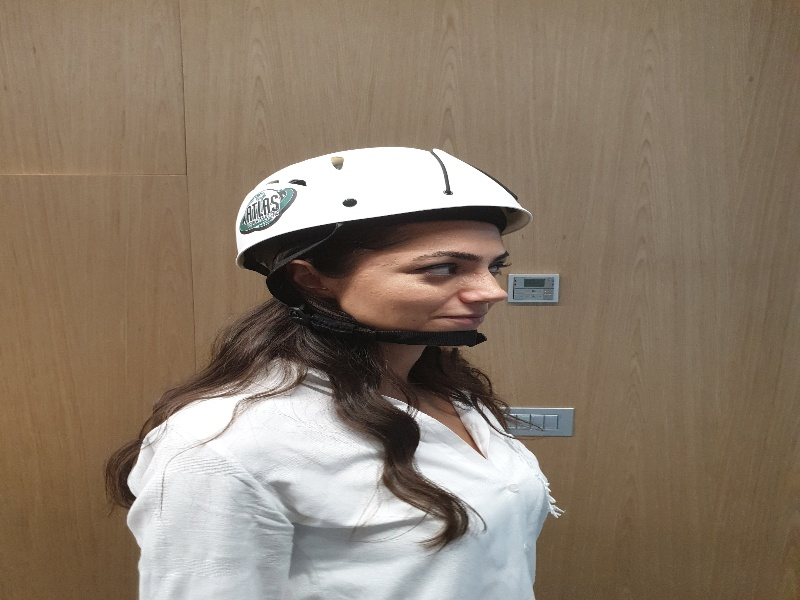Baret: (235, 146, 533, 248)
